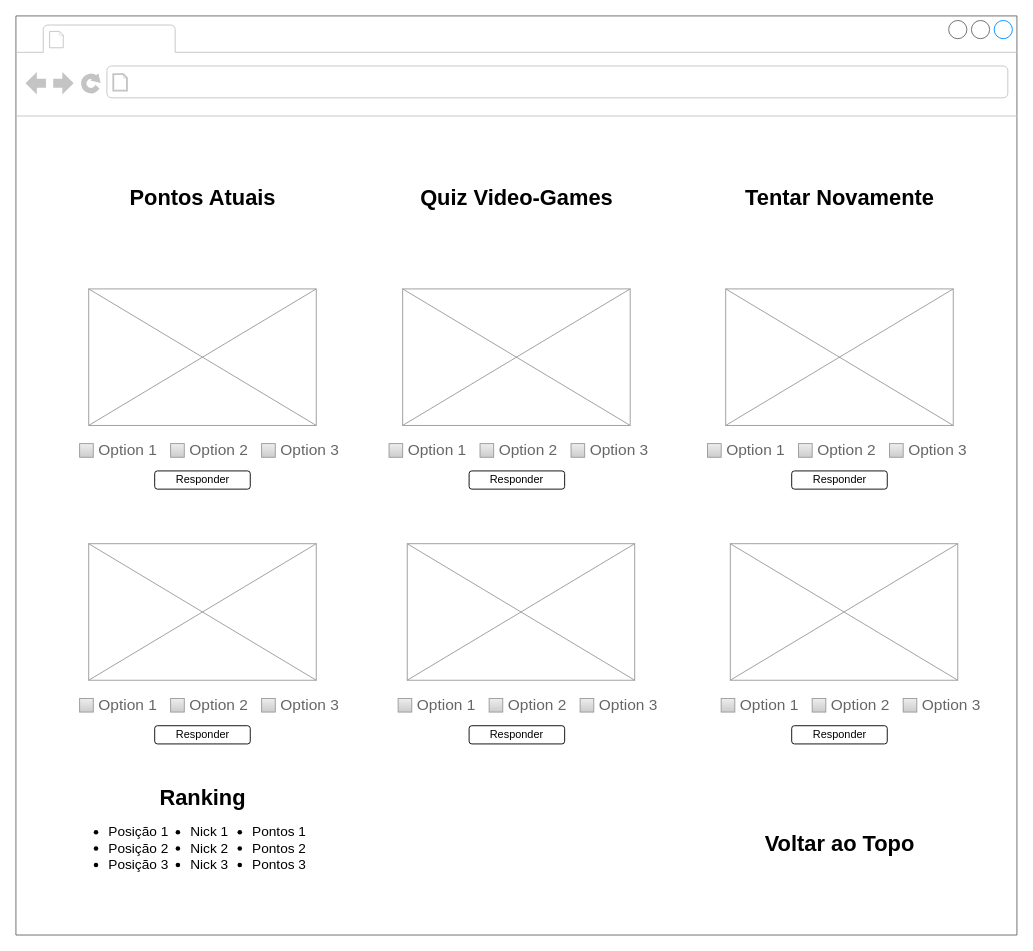
The diagram is 1033 pixels wide and 951 high, and some of its shapes have lost their labels. The centre of each missing label's shape, as x and y in pixels:
"https://www.draw.io" goes at [247,82].
"Page 1" goes at [120,38].
